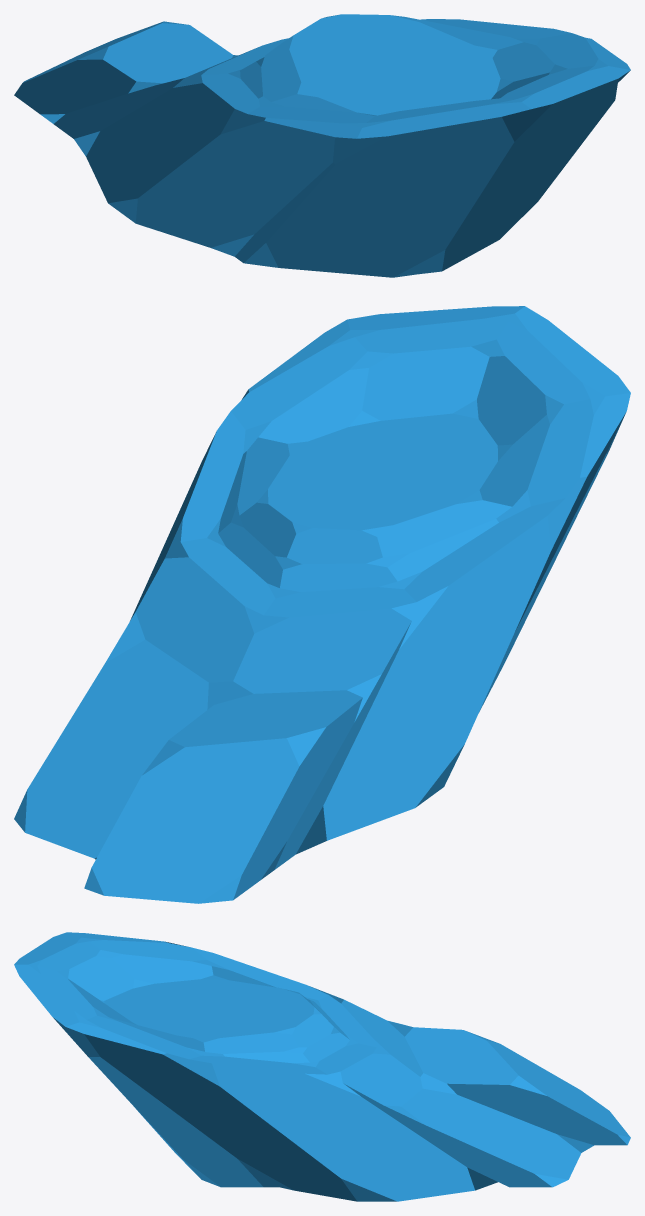
File: Magnet Pedastal.fbx
The picture shows the model from 3 angles, top to bottom: view 1: azimuth 30°, elevation 25°; view 2: azimuth 150°, elevation 25°; view 3: azimuth 270°, elevation 25°; orthographic projection. The views are drawn at different scales.
Visible parts, largest first — view 1: Magnet Pedastal; view 2: Magnet Pedastal; view 3: Magnet Pedastal.
Part boxes in pixels (left/top/right/bottom): Magnet Pedastal: left=14, top=14, right=630, bottom=277; Magnet Pedastal: left=14, top=306, right=630, bottom=903; Magnet Pedastal: left=14, top=932, right=630, bottom=1201.
Bounding box in the file's own units: 1.19 × 0.8458 × 2.62.
